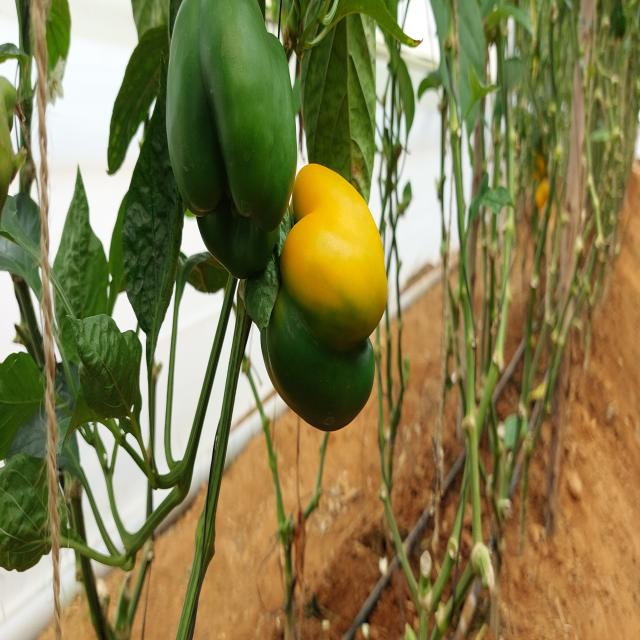Green--Not-ready-to-harvest: (165, 3, 294, 270)
GreenishYellow--Can-be-Harvested: (266, 160, 411, 436)
